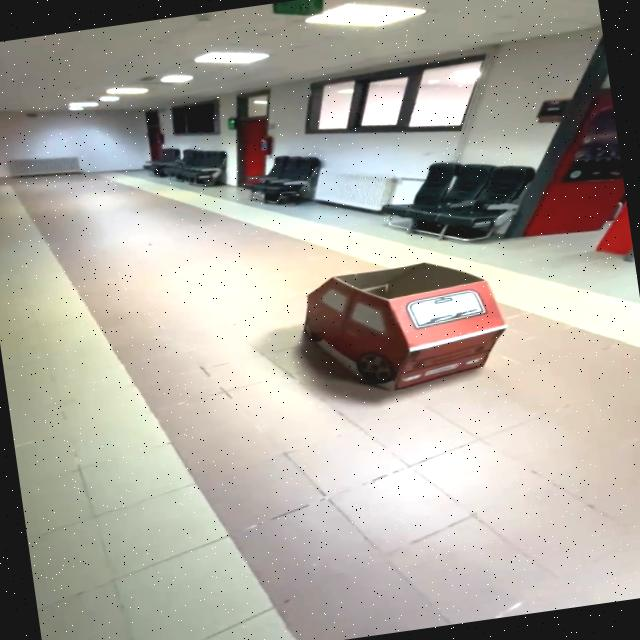red_car: (246, 234, 542, 420)
